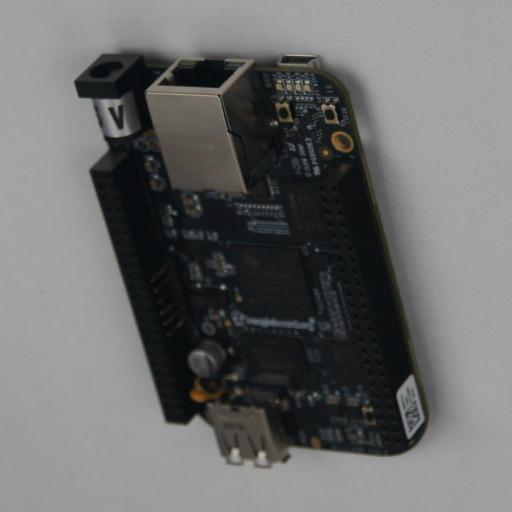Beaglebone Black: (74, 50, 436, 467)
